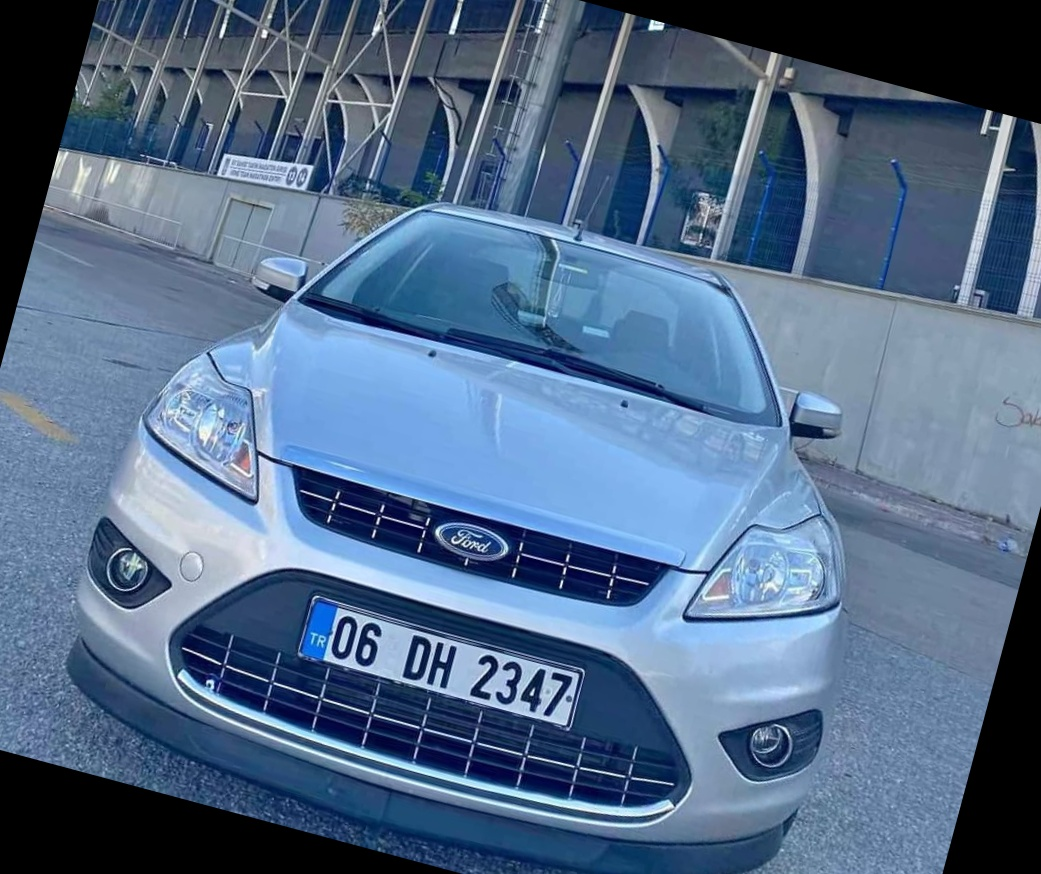plaka: (328, 601, 578, 733)
